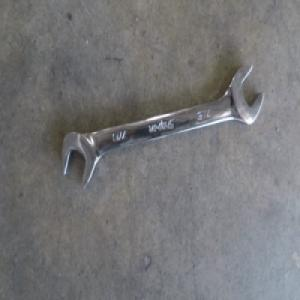Wrench: (63, 62, 264, 191)
